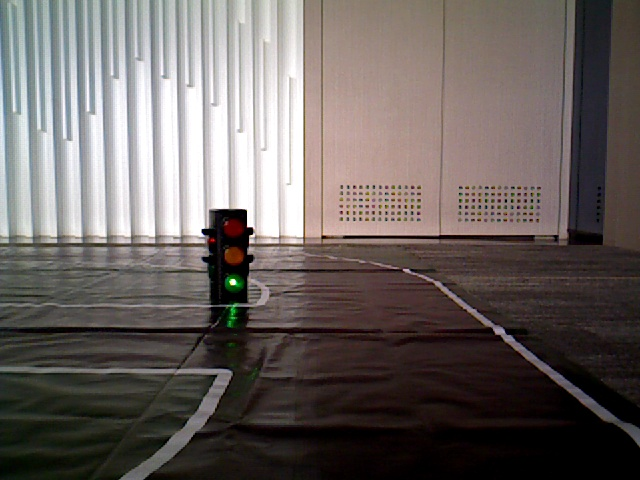green: (212, 216, 245, 297)
